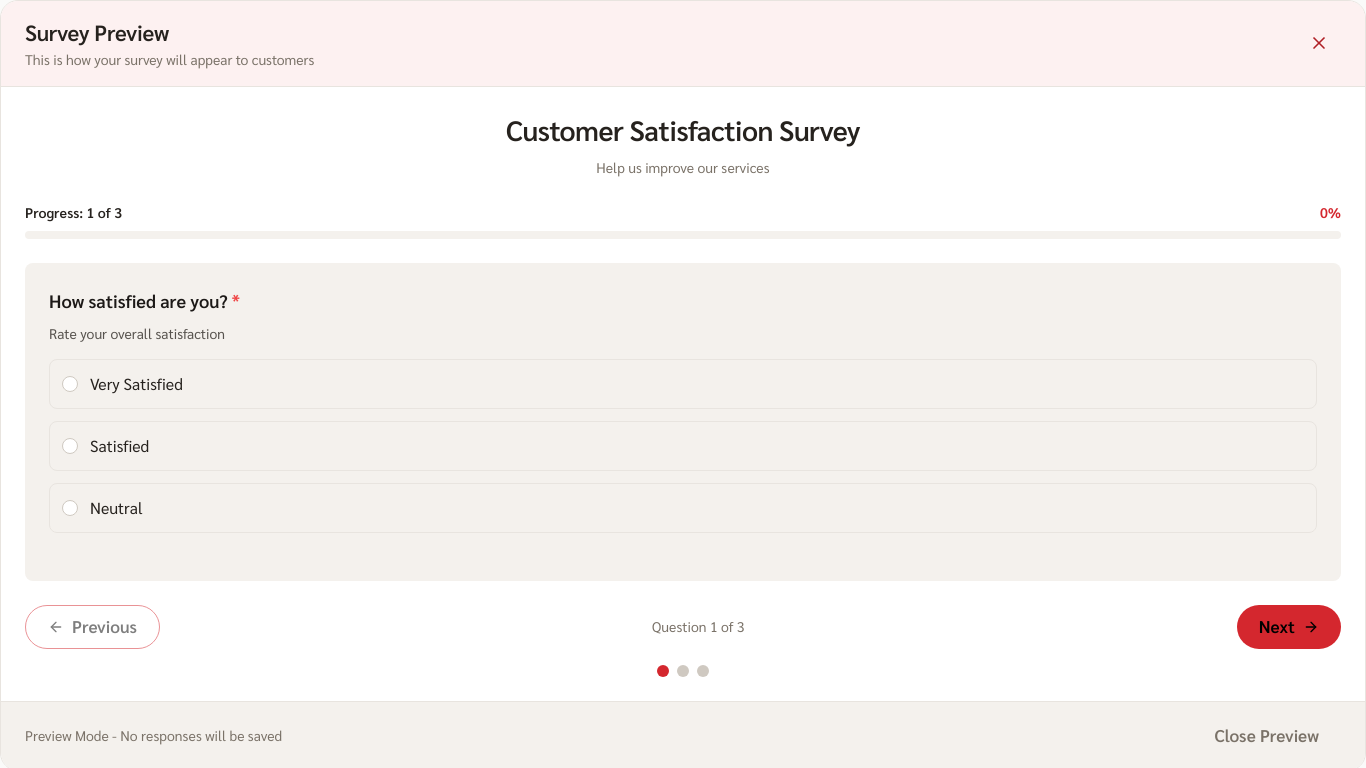
Test: SurveyPreview › Navigation Buttons › should navigate to last question and back
Navigate to last question
Click the button "Next". click: (1289, 627)
box: [1237,605,1341,649]
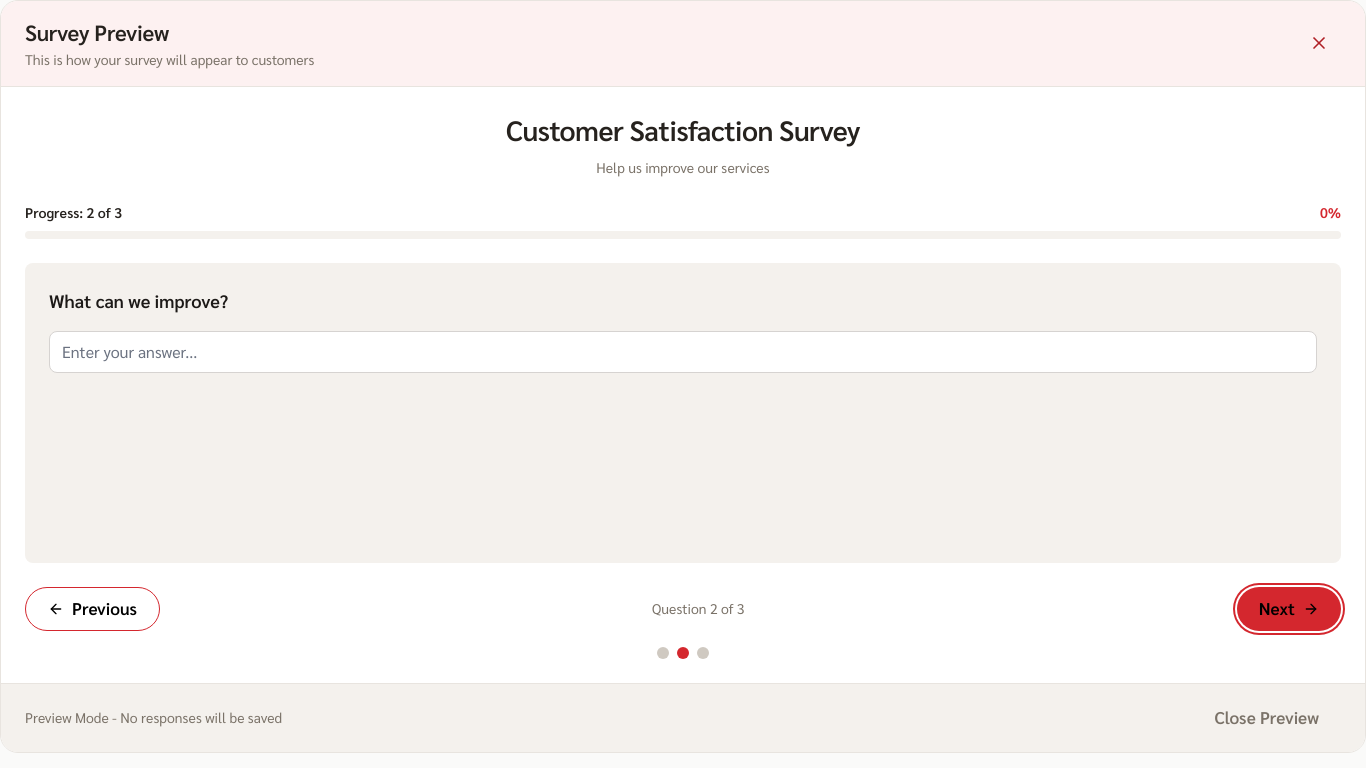
Click the button "Next". click: (1289, 609)
box: [1237,587,1341,631]
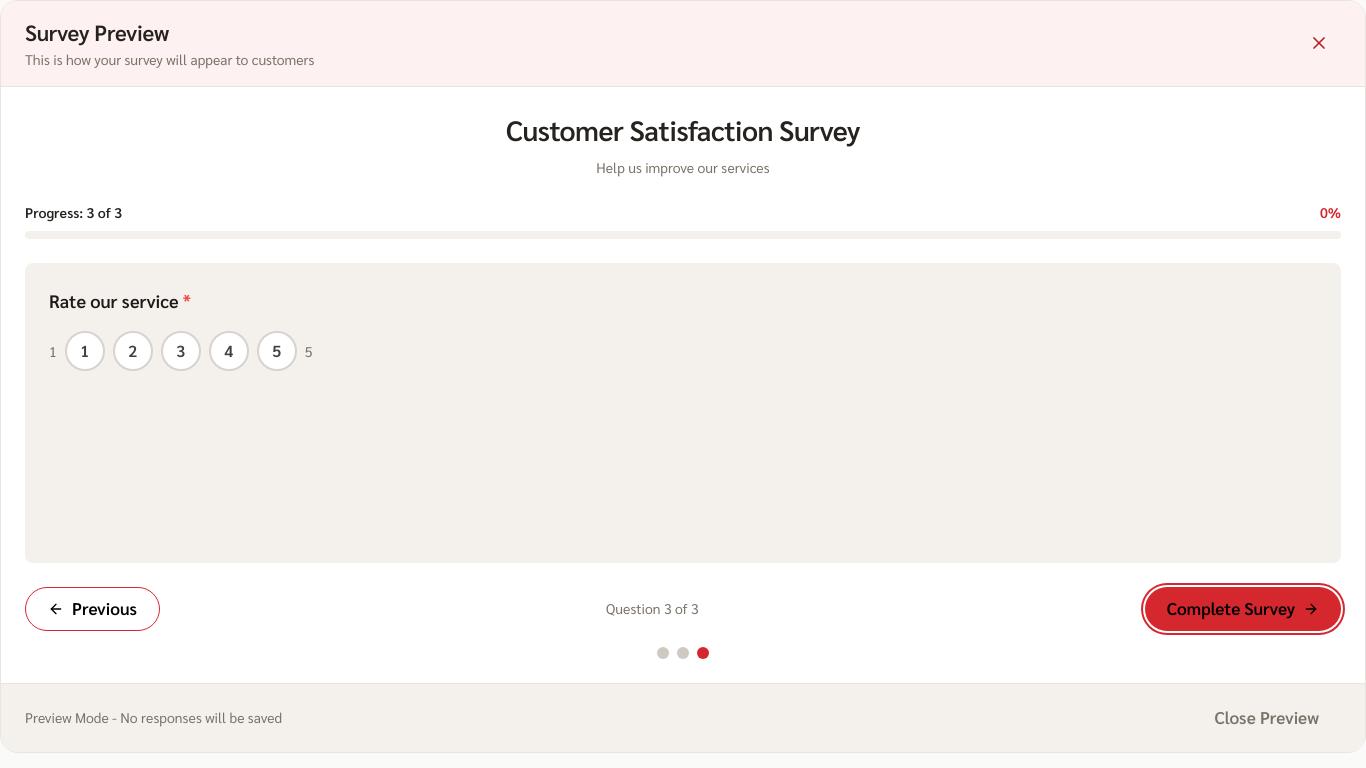
Now the text "Question 3 of 3" is shown, box [606,598,699,619]
Navigate back
Click the button "Previous". click: (92, 609)
box: [25,587,160,631]
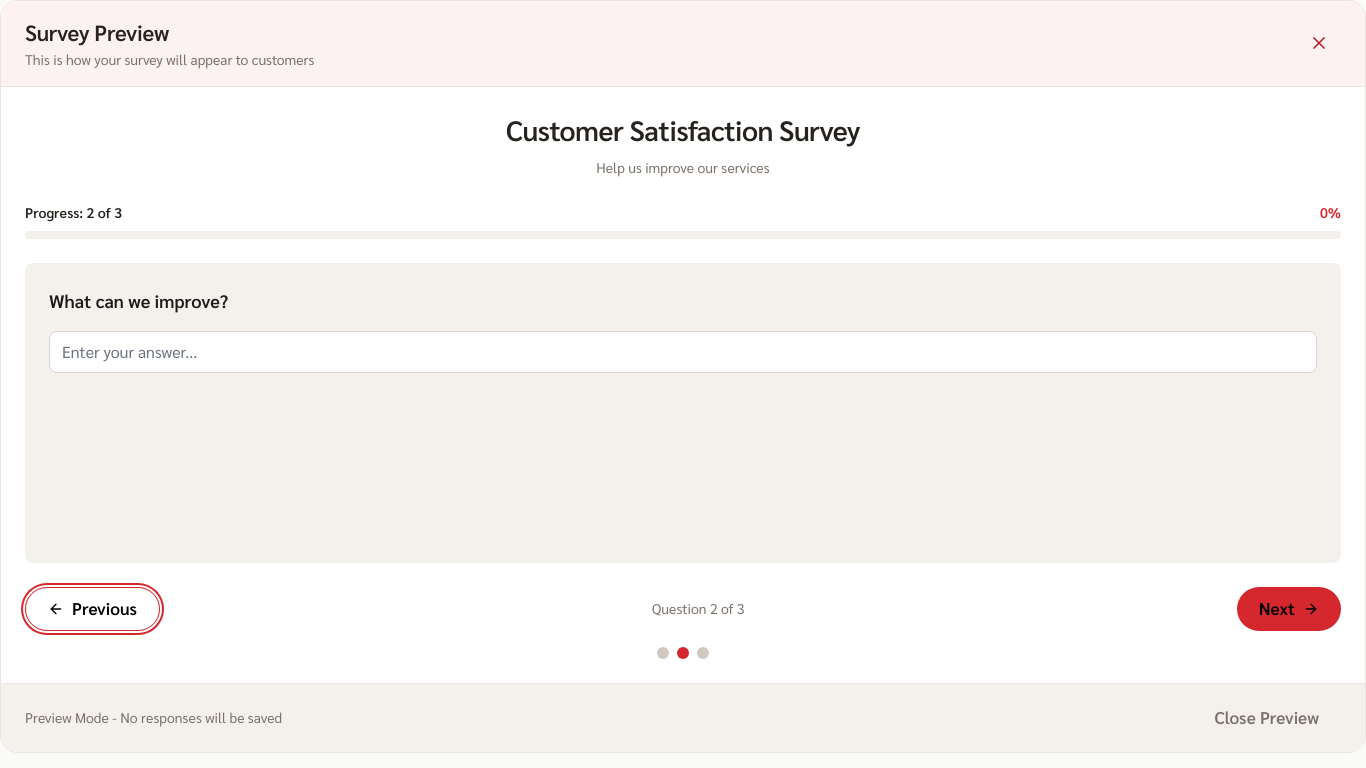
Now the text "Question 2 of 3" is shown, box [652,598,745,619]
